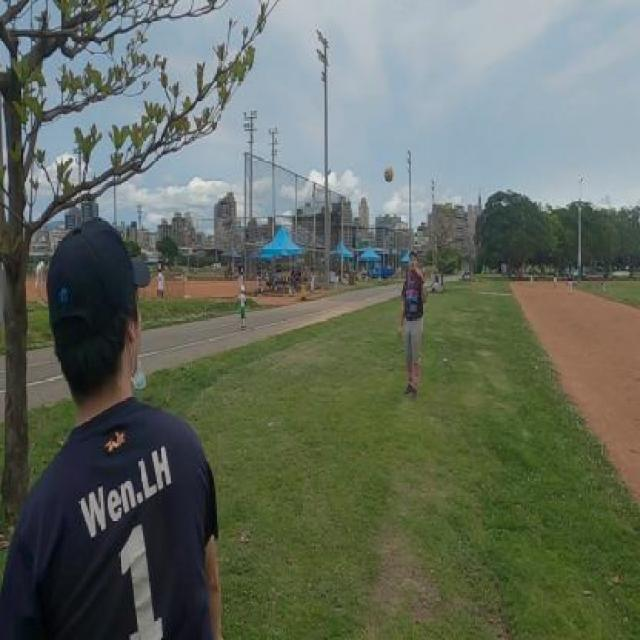baseball: (384, 165, 394, 182)
